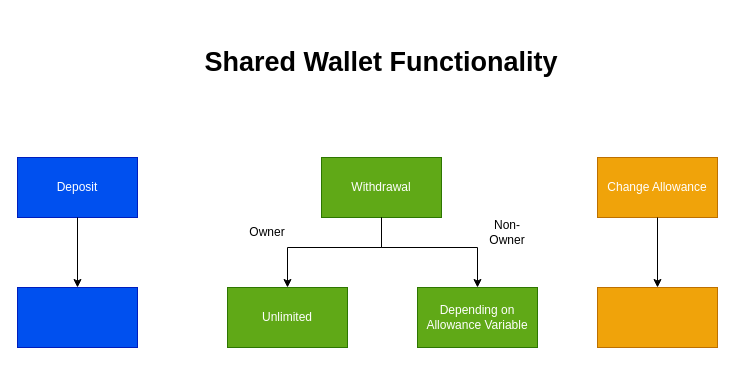
Some shapes in this 735 by 365 pixel diagram are drawn without their labels. Here are the shapes that lost their labels. From the top down, the centre of each, then its label:
At point 77,317: "Anybody".
At point 657,317: "Only Owner".
